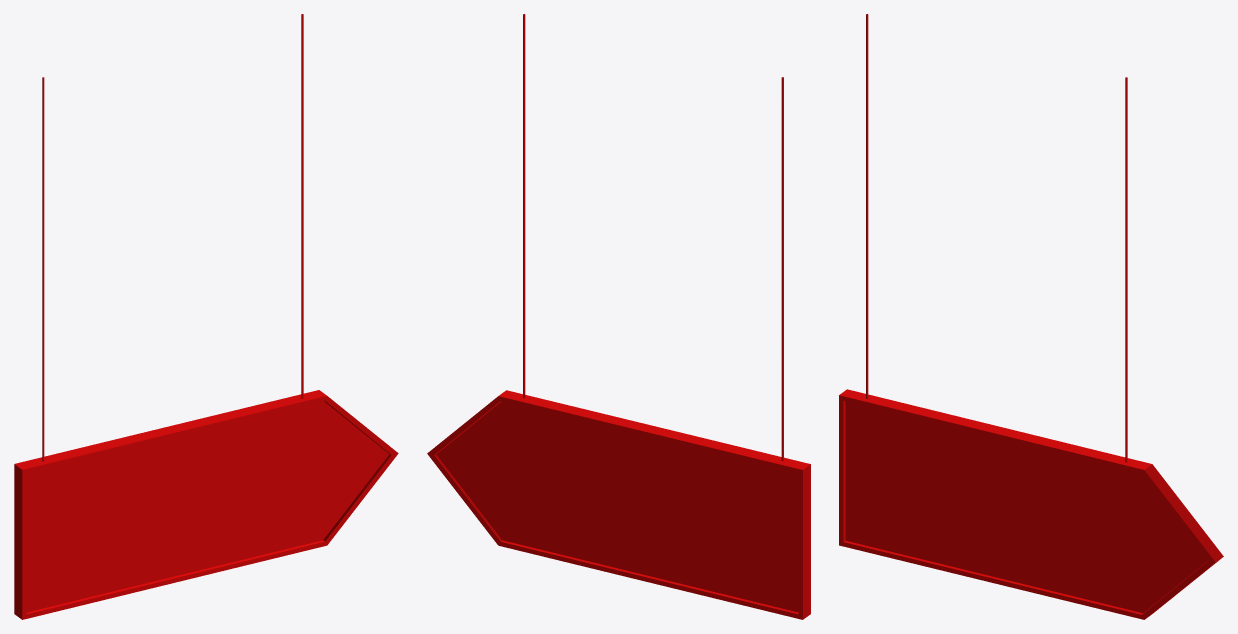
File: Board.fbx
The picture shows the model from 3 angles, left to right: view 1: azimuth 30°, elevation 25°; view 2: azimuth 150°, elevation 25°; view 3: azimuth 330°, elevation 25°; orthographic projection.
Visible parts, largest first — view 1: Board; view 2: Board; view 3: Board.
Part boxes in pixels (<box>): Board: <box>14,14,398,619</box>; Board: <box>427,14,810,619</box>; Board: <box>839,14,1223,619</box>.
Size of the model in its own units: 293 by 397 by 10.89.
